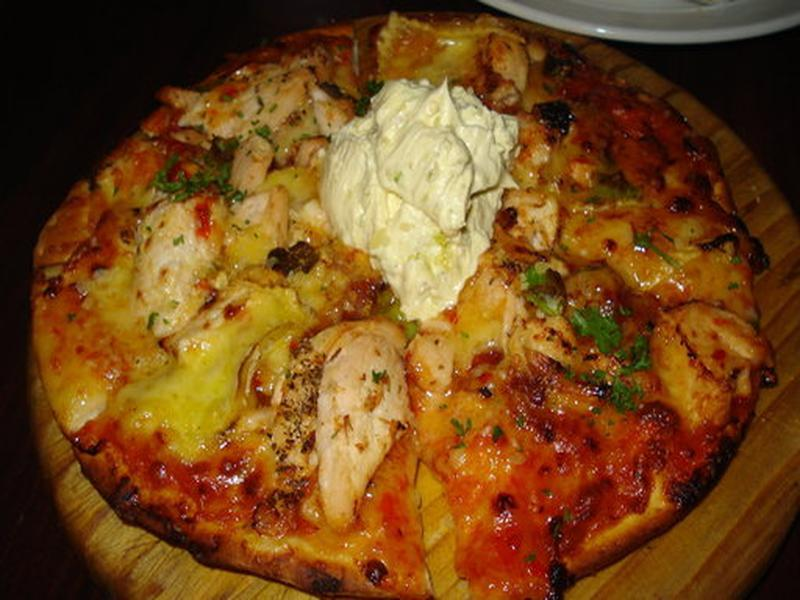pizza: (48, 11, 800, 581)
